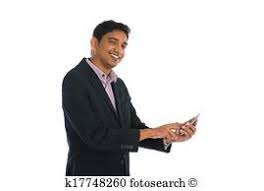Indian_Male: (91, 17, 129, 66)
